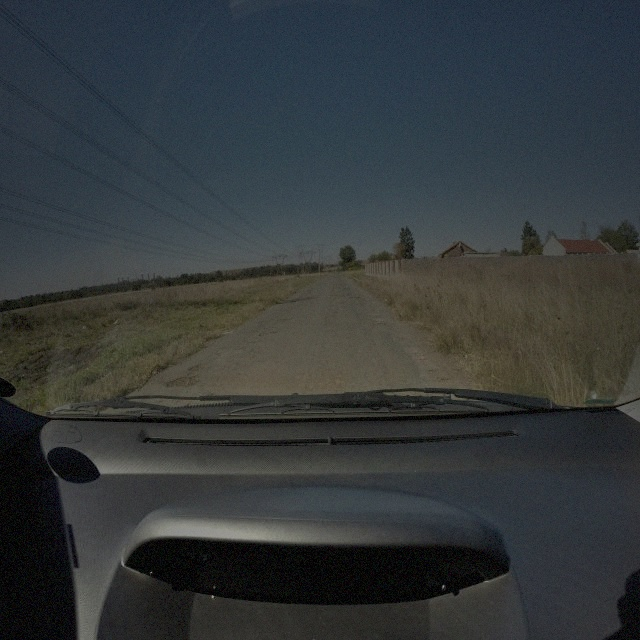pothole: (163, 374, 200, 389), (189, 362, 208, 371), (395, 335, 404, 342)
